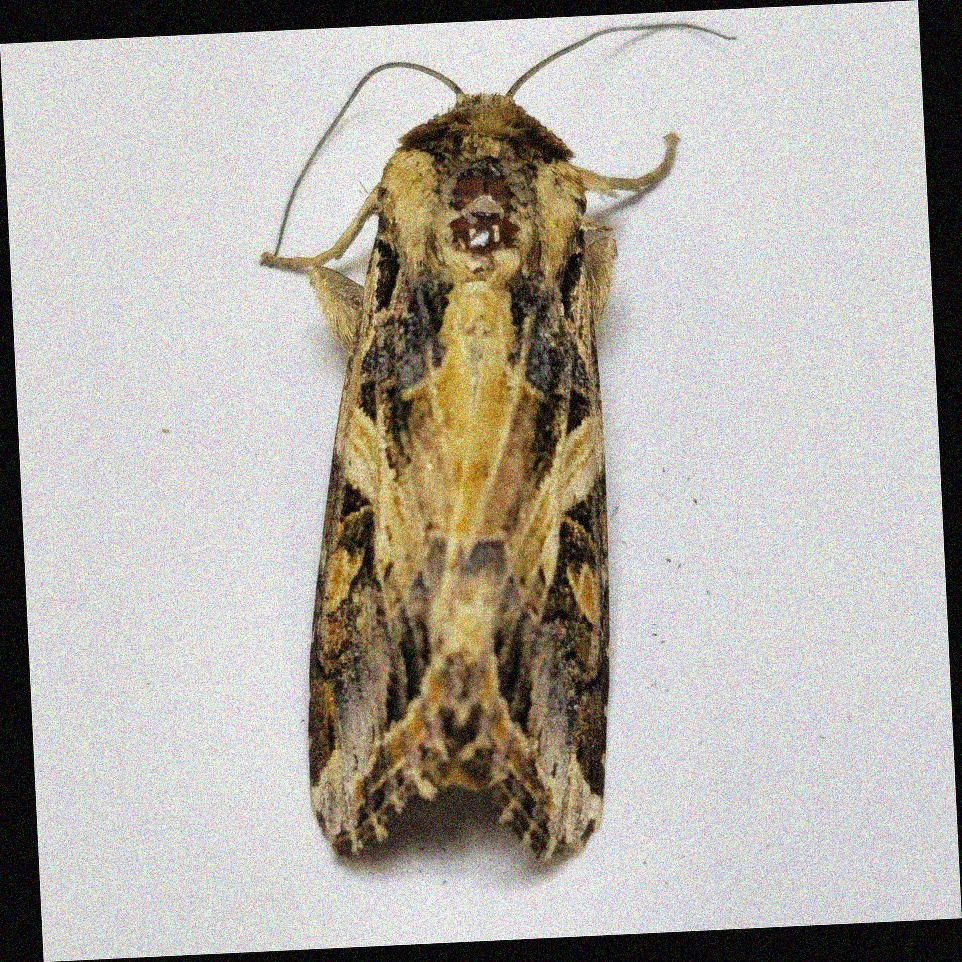Spodoptera litura: (269, 28, 756, 867)
